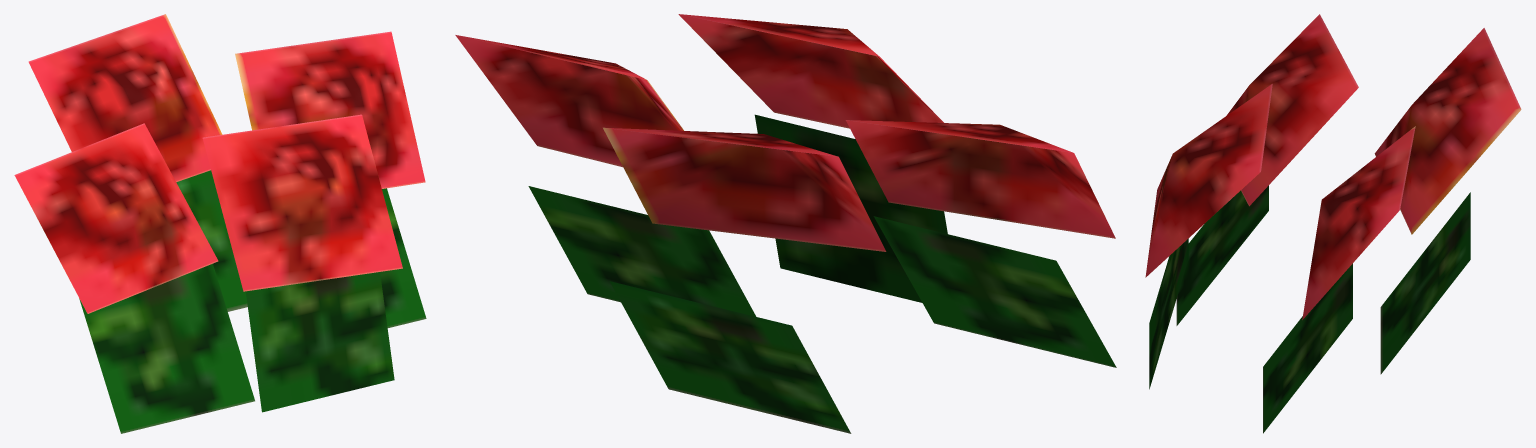
The model's file is flw_rose_rd.dae.
3 views of the same model, side by side, from view 1: azimuth 30°, elevation 25°; view 2: azimuth 150°, elevation 25°; view 3: azimuth 270°, elevation 25° (orthographic). The views are drawn at different scales.
Parts seen in each view (by area): view 1: flw_rose_rd; view 2: flw_rose_rd; view 3: flw_rose_rd.
Boxes of the visible parts, x1,y1,x2,y2 form: flw_rose_rd: [14, 14, 426, 433]; flw_rose_rd: [455, 14, 1116, 433]; flw_rose_rd: [1145, 14, 1521, 433].
Bounding box in the file's own units: 33.43 × 19.21 × 25.27.
Materials: 1 (1 with a texture image).
